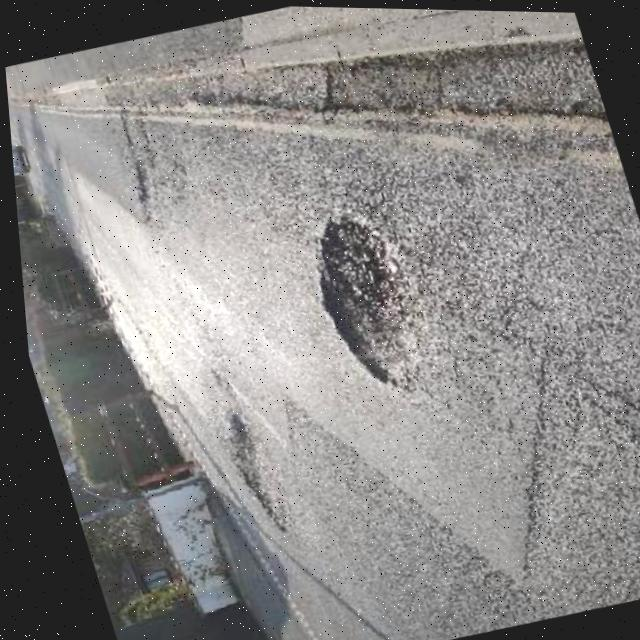Pothole: (286, 196, 442, 405), (208, 408, 285, 541)
